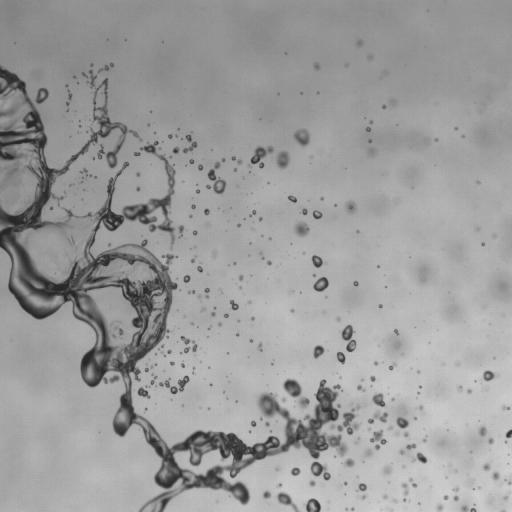droplet: (206, 162, 226, 194), (370, 429, 386, 450), (294, 128, 309, 146), (181, 336, 197, 352), (183, 134, 196, 153), (368, 410, 387, 423), (313, 277, 329, 291), (276, 151, 289, 168), (304, 498, 321, 511), (294, 222, 309, 236), (35, 88, 48, 103), (372, 393, 385, 407), (411, 452, 427, 463), (482, 370, 497, 381), (345, 200, 356, 213), (313, 345, 324, 358), (312, 255, 323, 267), (396, 417, 408, 428), (342, 458, 354, 467), (336, 352, 345, 363), (502, 474, 511, 485), (382, 465, 392, 474), (313, 210, 322, 219), (230, 300, 238, 310), (492, 471, 500, 481), (356, 483, 366, 491), (291, 467, 300, 475), (364, 448, 372, 456), (80, 169, 89, 176), (479, 426, 486, 435), (483, 462, 490, 471), (262, 491, 271, 498), (288, 195, 296, 202), (505, 429, 511, 438), (368, 149, 375, 156), (183, 275, 190, 282), (357, 384, 364, 391), (437, 503, 443, 511), (172, 147, 179, 153), (389, 363, 395, 370), (301, 208, 307, 214), (309, 480, 315, 486), (502, 405, 509, 410), (258, 343, 262, 351), (314, 63, 319, 69), (236, 159, 242, 164), (198, 164, 203, 170), (204, 209, 209, 215), (250, 210, 255, 216), (197, 266, 202, 272), (457, 385, 462, 391), (418, 405, 423, 411), (251, 420, 256, 426), (403, 431, 408, 437), (357, 40, 362, 45), (370, 376, 375, 381), (281, 397, 286, 402), (488, 438, 493, 443), (453, 496, 458, 501), (365, 127, 370, 131), (193, 230, 197, 235), (267, 260, 271, 265), (239, 275, 243, 280), (353, 281, 358, 285), (394, 329, 398, 334), (422, 437, 426, 442), (355, 439, 359, 444), (453, 487, 458, 491), (383, 494, 387, 499), (443, 495, 448, 499), (368, 55, 372, 59), (390, 100, 394, 104), (168, 134, 172, 138), (231, 156, 235, 160), (189, 159, 193, 163), (136, 187, 140, 191), (195, 189, 199, 193), (211, 312, 215, 316), (467, 389, 471, 393), (265, 422, 269, 426), (277, 483, 281, 487), (361, 495, 365, 499), (134, 152, 139, 155), (191, 257, 194, 262), (191, 205, 195, 208), (201, 307, 204, 311), (336, 317, 340, 320), (170, 361, 173, 365), (388, 426, 392, 429), (382, 105, 385, 108), (222, 158, 225, 161), (136, 173, 139, 176), (49, 206, 52, 209), (190, 290, 193, 293), (379, 304, 382, 307), (224, 314, 227, 317), (251, 317, 254, 320), (181, 363, 184, 366), (374, 362, 377, 365), (393, 499, 396, 502), (213, 252, 215, 256), (369, 121, 372, 123), (435, 138, 437, 141), (368, 140, 371, 142), (320, 197, 323, 199), (481, 243, 484, 245), (291, 309, 293, 312), (218, 323, 221, 325), (208, 326, 210, 329), (250, 339, 252, 342), (361, 378, 363, 381), (419, 385, 421, 388), (396, 432, 398, 435), (344, 482, 347, 484), (403, 499, 406, 501), (351, 508, 354, 510), (66, 102, 68, 104), (455, 127, 457, 129), (18, 181, 20, 183), (477, 181, 479, 183), (259, 218, 261, 220), (238, 224, 240, 226), (198, 295, 200, 297), (391, 398, 393, 400), (414, 417, 416, 419), (276, 468, 278, 470), (478, 487, 480, 489)
ligament: (0, 65, 359, 511), (283, 378, 309, 409), (159, 375, 189, 394), (249, 146, 273, 168), (137, 375, 156, 398), (277, 492, 300, 511), (341, 324, 356, 352), (399, 443, 416, 454), (99, 63, 113, 71), (461, 505, 476, 511), (401, 483, 408, 495), (409, 478, 416, 487), (162, 350, 171, 356), (204, 288, 209, 298), (179, 225, 183, 237), (144, 366, 152, 371), (504, 492, 509, 499), (68, 91, 71, 100), (388, 510, 393, 511), (501, 510, 505, 511)
